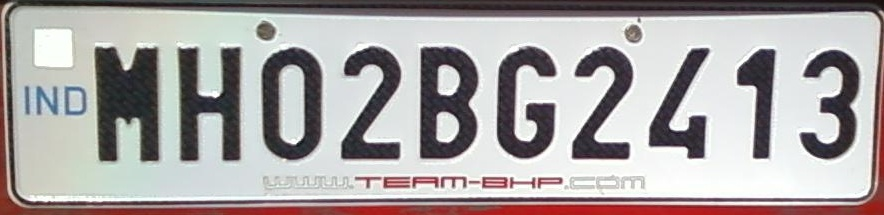character: (89, 40, 162, 164), (174, 40, 243, 164), (569, 45, 634, 162), (258, 45, 323, 161), (340, 41, 402, 162), (494, 40, 558, 157), (416, 43, 478, 162), (648, 43, 709, 162), (799, 48, 859, 159), (734, 45, 777, 162)
